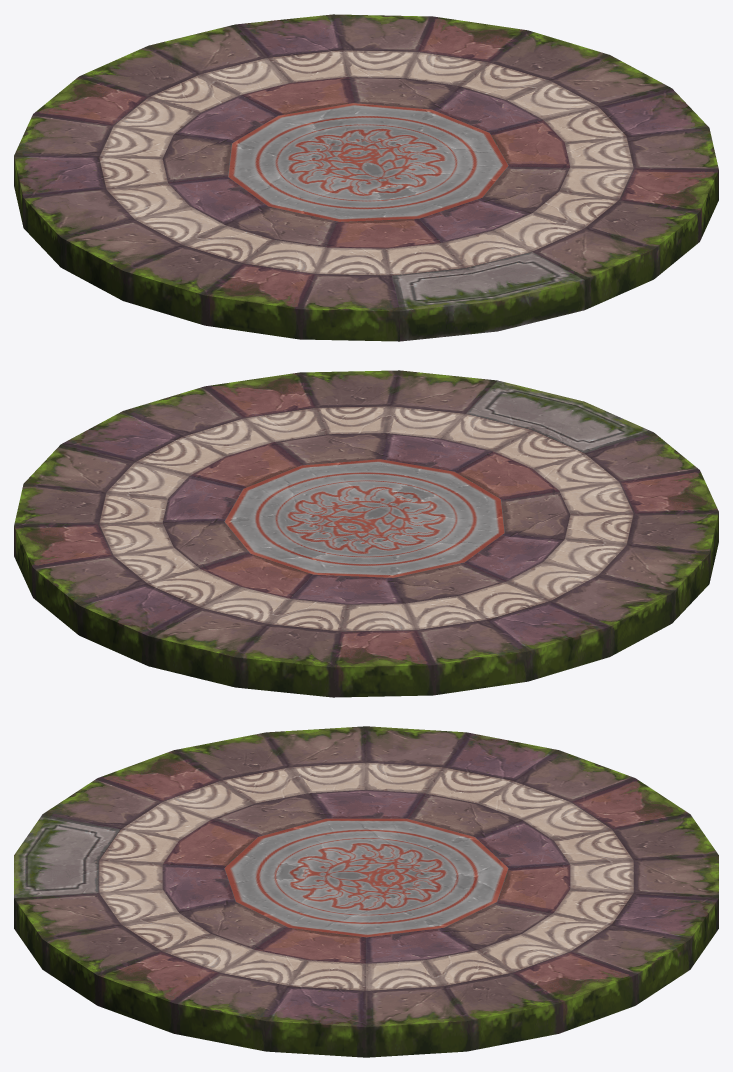
Rendered from shuijitan01.FBX.
3 renders of one model, top to bottom at view 1: azimuth 30°, elevation 25°; view 2: azimuth 150°, elevation 25°; view 3: azimuth 270°, elevation 25°, orthographic.
Parts seen in each view (by area): view 1: shuijitan; view 2: shuijitan; view 3: shuijitan.
Boxes of the visible parts, left/top/right/bottom form: shuijitan: left=14, top=14, right=718, bottom=341; shuijitan: left=14, top=370, right=718, bottom=697; shuijitan: left=14, top=726, right=718, bottom=1057.
Size of the model in its own units: 1347 by 1333 by 63.48.
